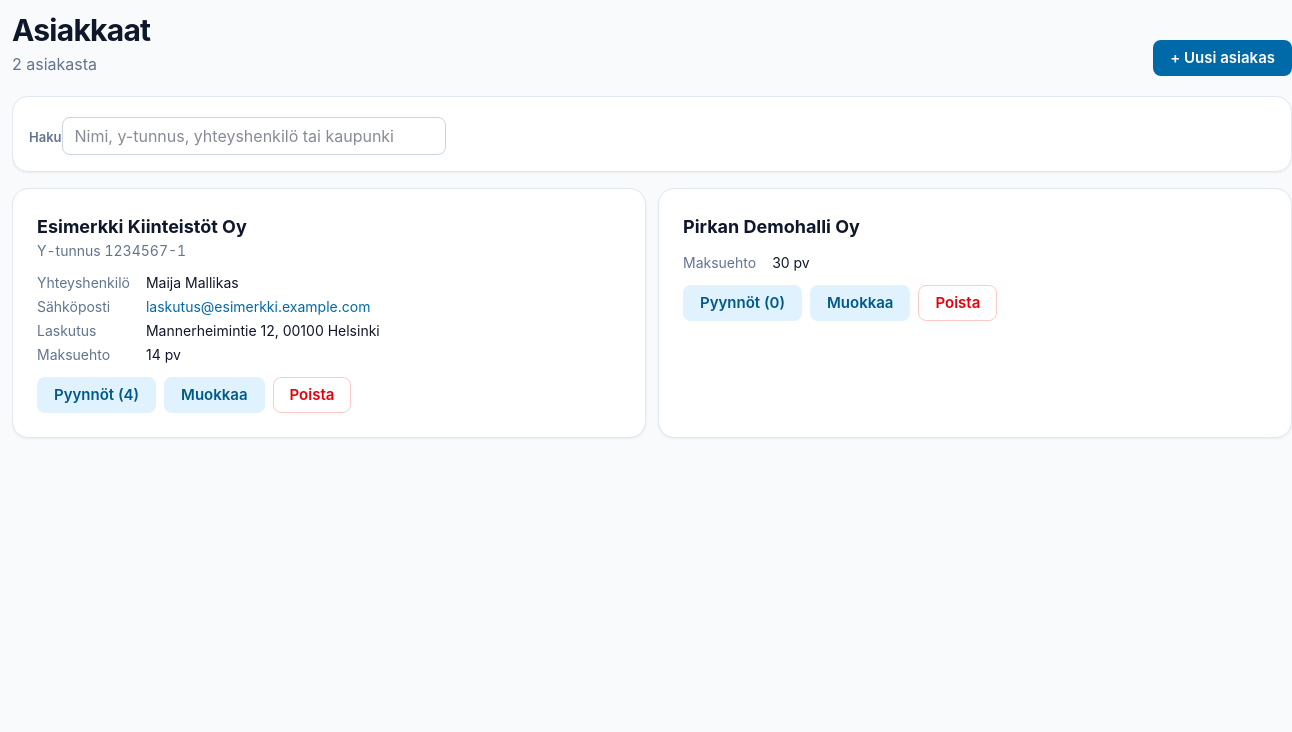
Scenario: CustomersView › shows why a customer with requests can't be deleted
Step 1. Click the button with aria-label "Poista: Esimerkki Kiinteistöt Oy" → click(312, 395), box [272,377,351,413]
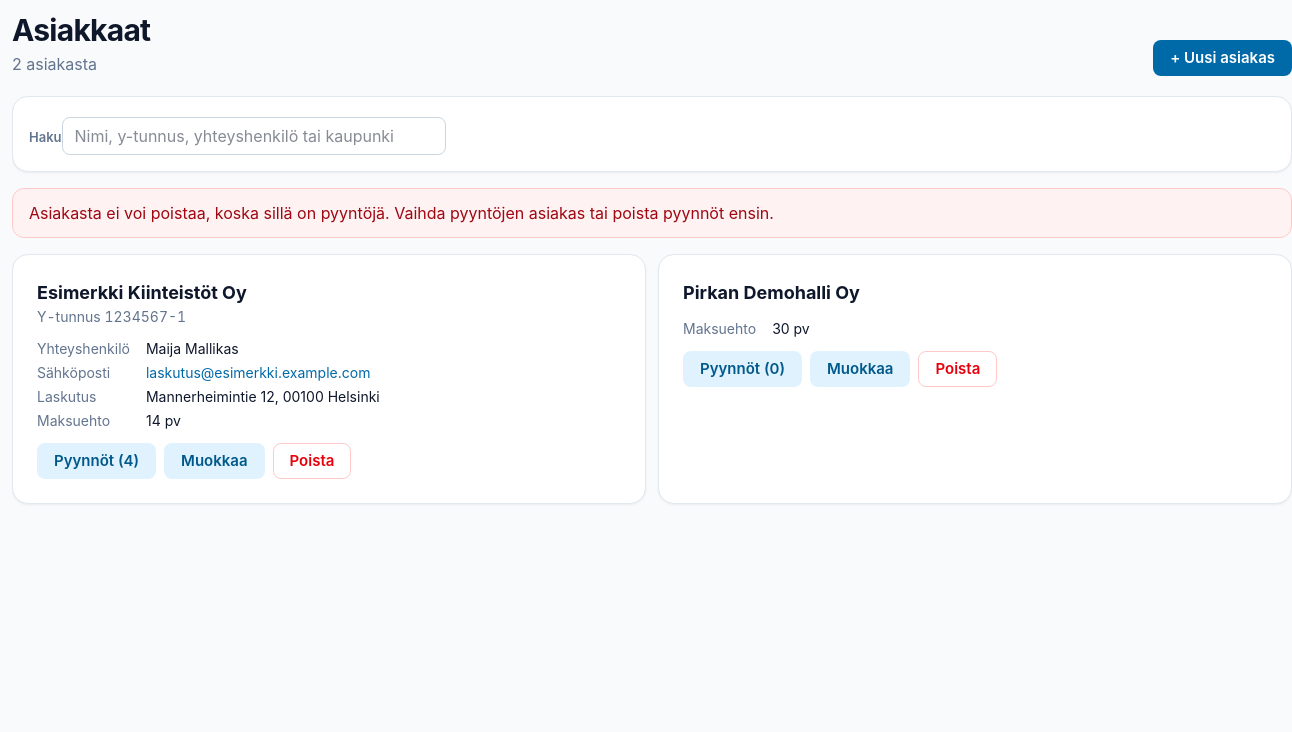
Expected: the number of list items is 2, [12,254,646,504]; [658,254,1291,504]
Expected: the message shows "Asiakasta ei voi poistaa, koska sillä on pyyntöjä. Vaihda pyyntöjen asiakas tai poista pyynnöt ensin.", [29,203,774,223]
